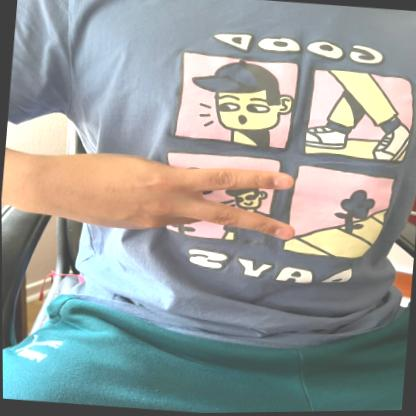H: (29, 141, 302, 251)
